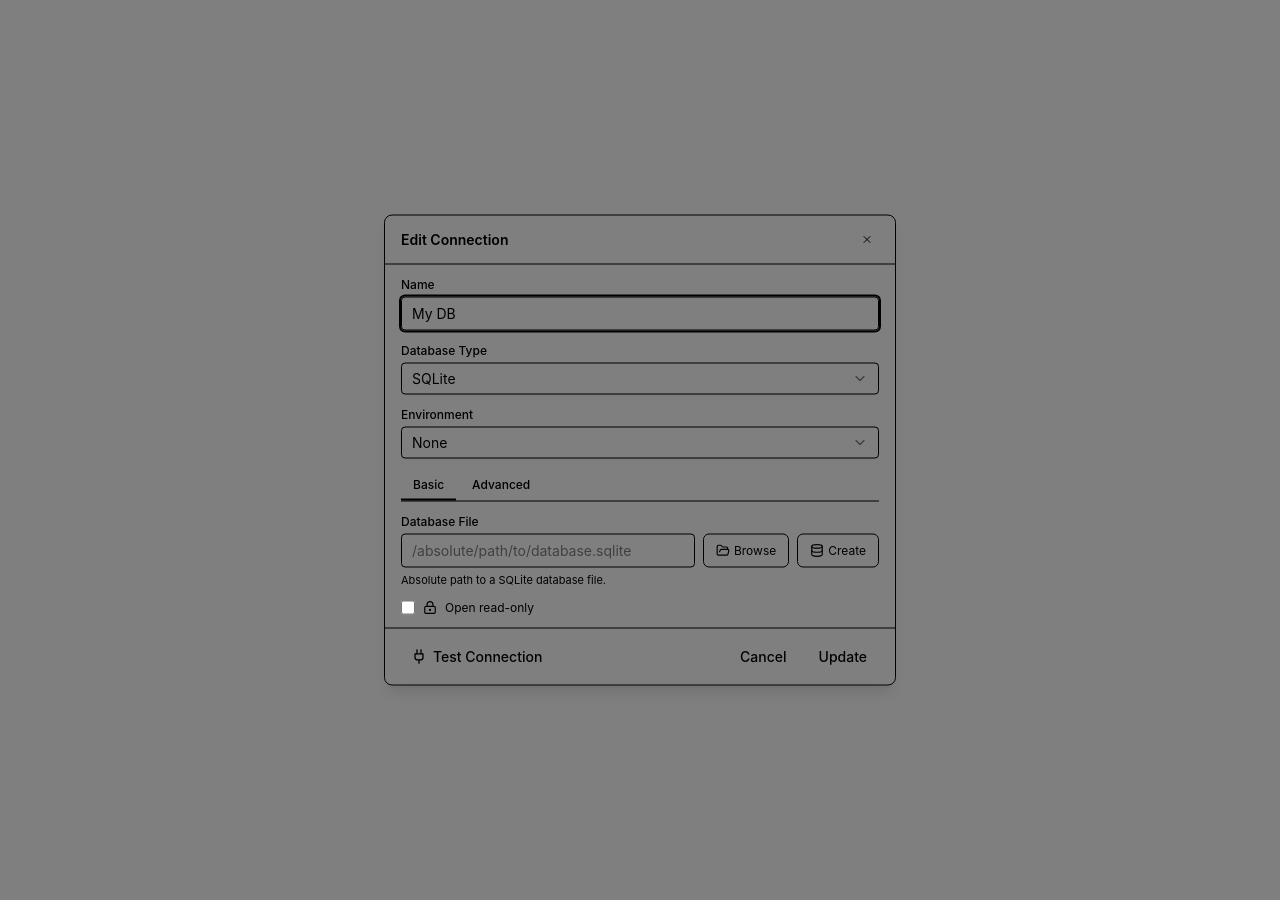
Test: ConnectionDialog form segments (#2436) › [conn-segment] the SQLite path is reached the same way when Save is rejected from Advanced
Press the mouse on the tab "Advanced": (501, 486) [460,470,542,500]
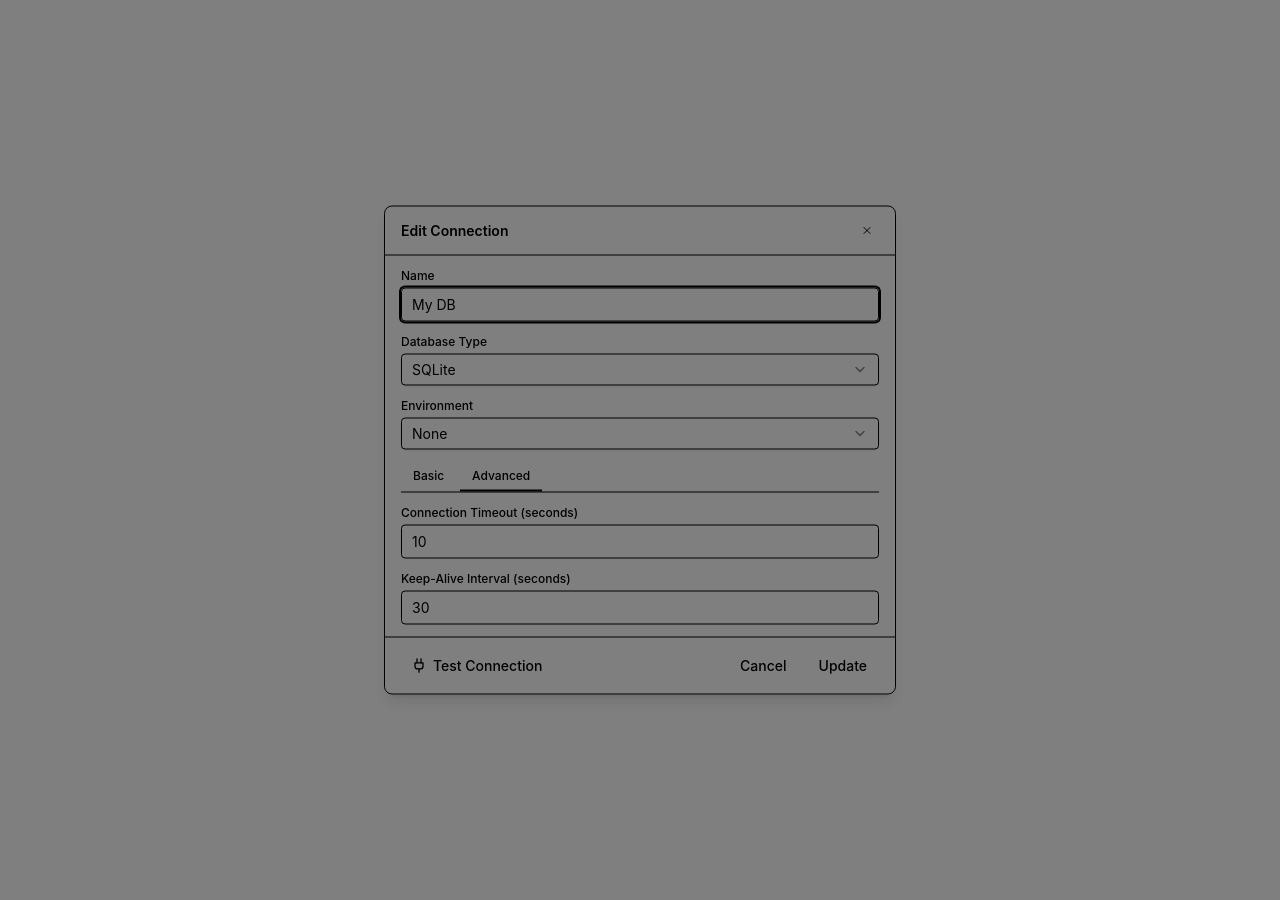
Click the button "Update": (843, 666) [806,650,879,682]
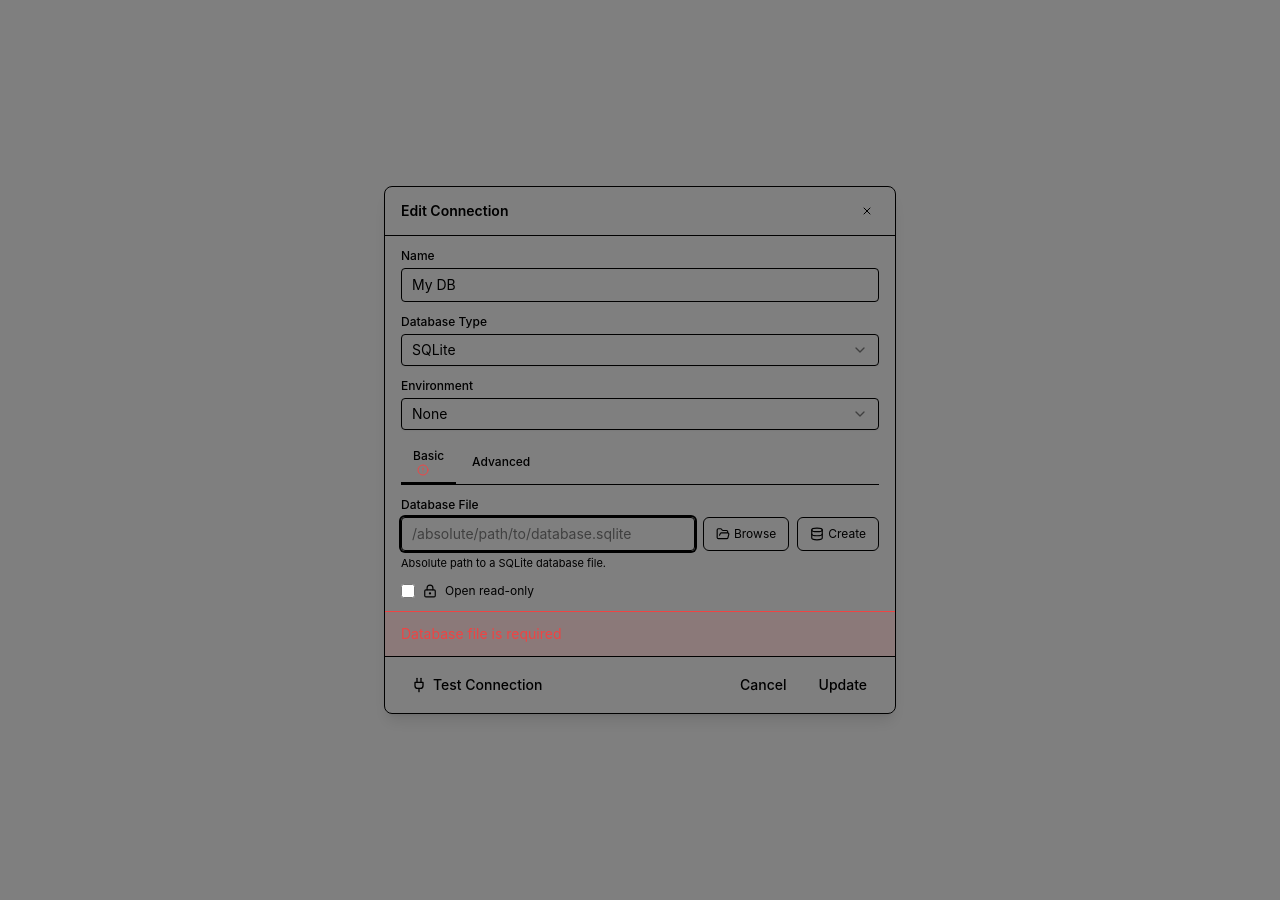
Result: the message reads "Database file is required" at [401,625,562,642]
